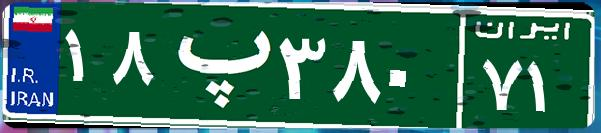0: (385, 28, 445, 110)
1: (57, 26, 110, 107), (525, 38, 570, 115)
3: (273, 28, 330, 110)
7: (475, 38, 525, 113)
8: (330, 28, 385, 110), (110, 28, 158, 105)
پ: (158, 15, 273, 115)
